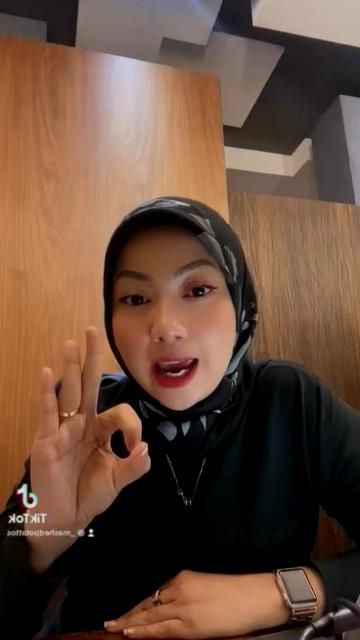F: (22, 322, 154, 528)
